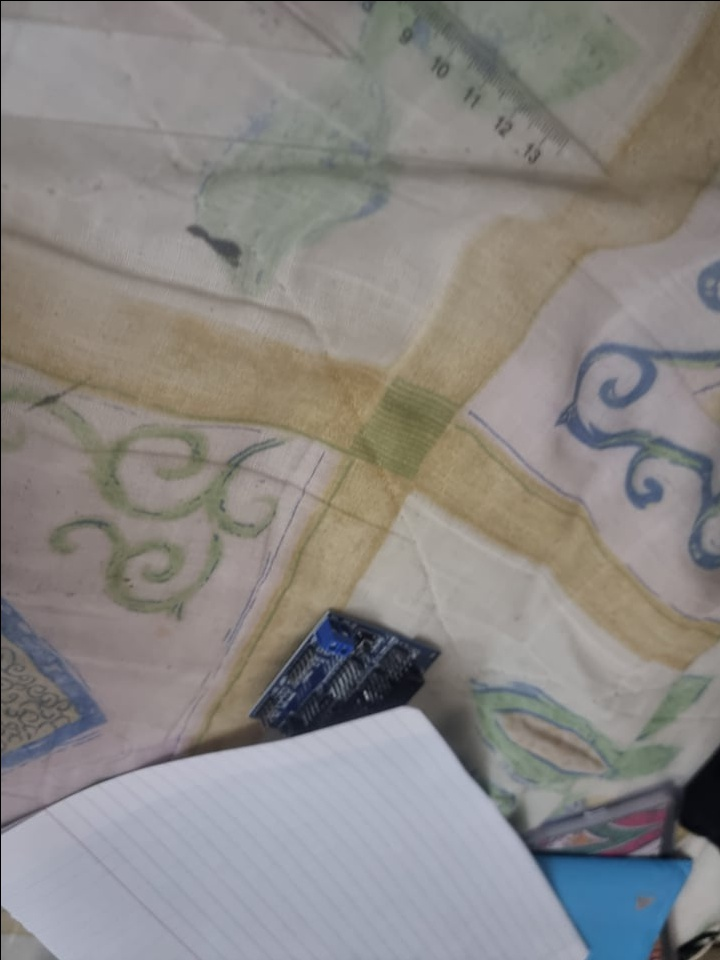5V EXPANSION: (248, 609, 442, 747)
